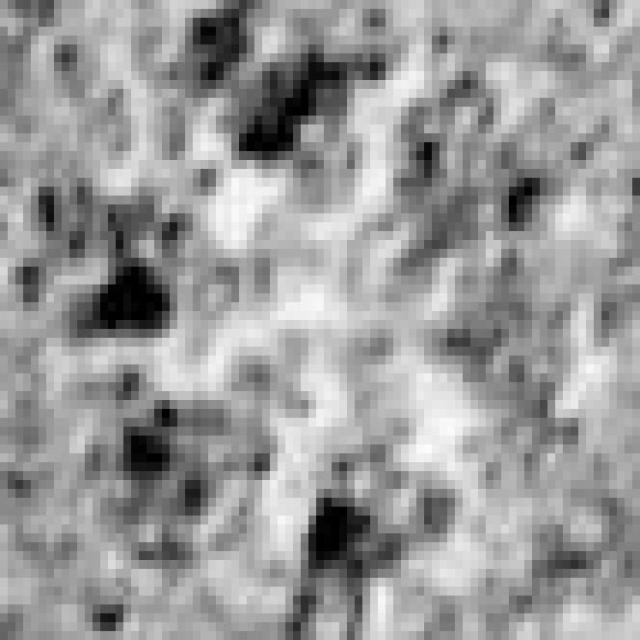inner: (213, 203, 426, 440)
lobe: (88, 393, 285, 570), (425, 282, 580, 500), (395, 72, 548, 291), (10, 182, 209, 343), (219, 40, 394, 211), (297, 435, 467, 604)
outer: (0, 2, 623, 632)
